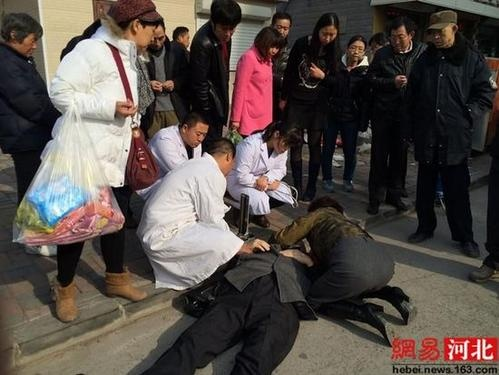falling: (73, 222, 320, 375)
